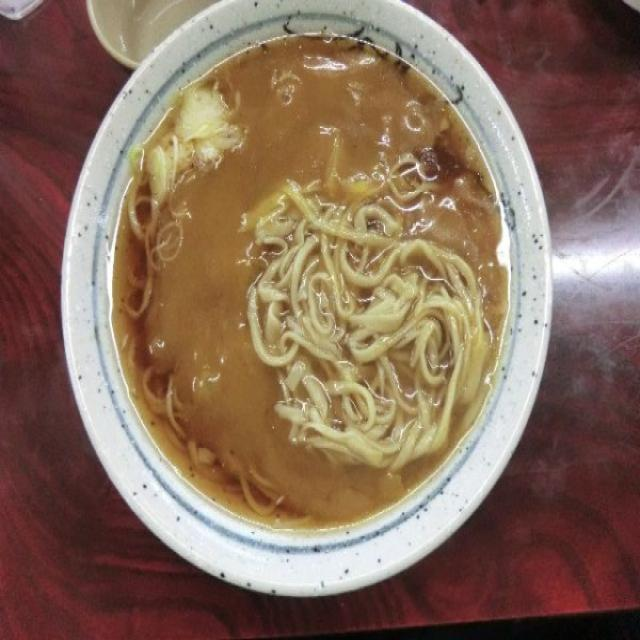面条主食: (53, 0, 558, 612)
